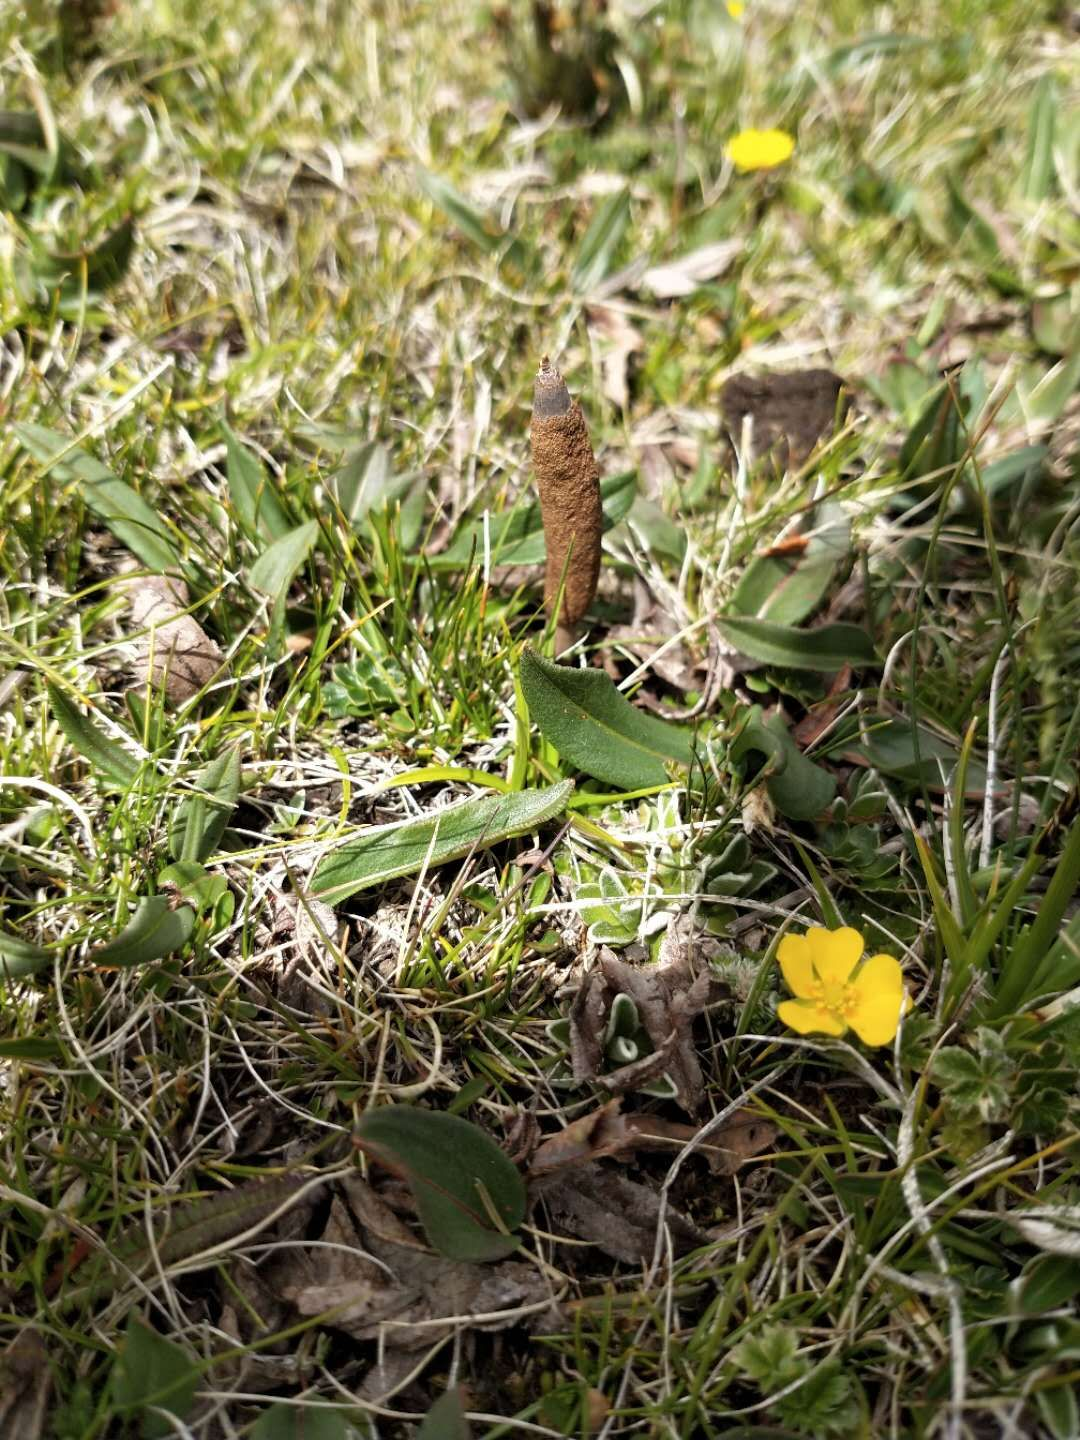cpf: (517, 358, 606, 632)
